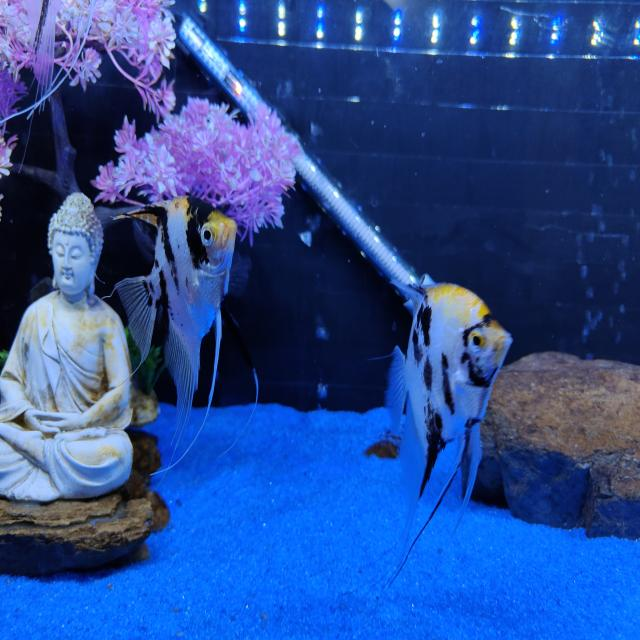Fish: (386, 284, 511, 581), (115, 197, 236, 439), (24, 0, 60, 99)
